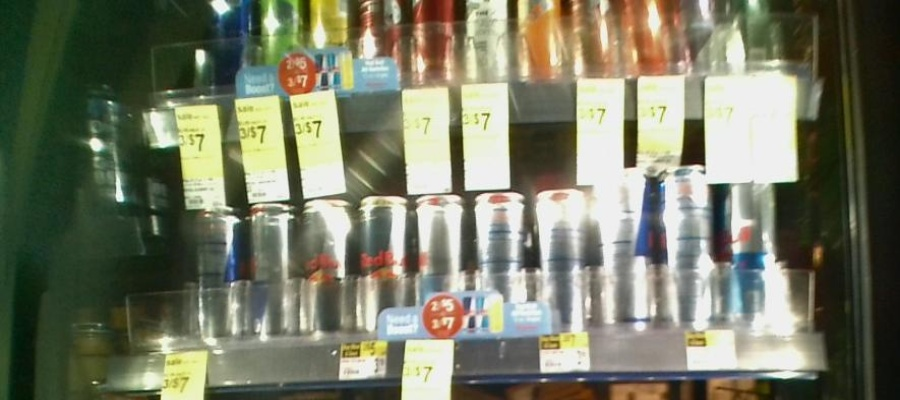bottle: (723, 148, 780, 326), (660, 156, 718, 320), (599, 172, 659, 326), (473, 191, 531, 334), (412, 191, 466, 339), (536, 186, 590, 331), (194, 202, 244, 350), (357, 197, 409, 338), (249, 198, 300, 340), (305, 199, 353, 338)
